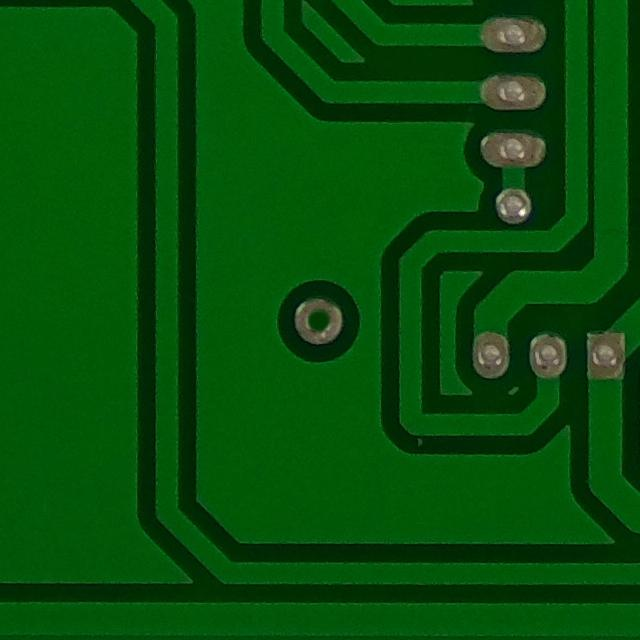missing_hole: (286, 289, 354, 351)
